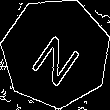N_NE: (25, 21, 87, 85)
